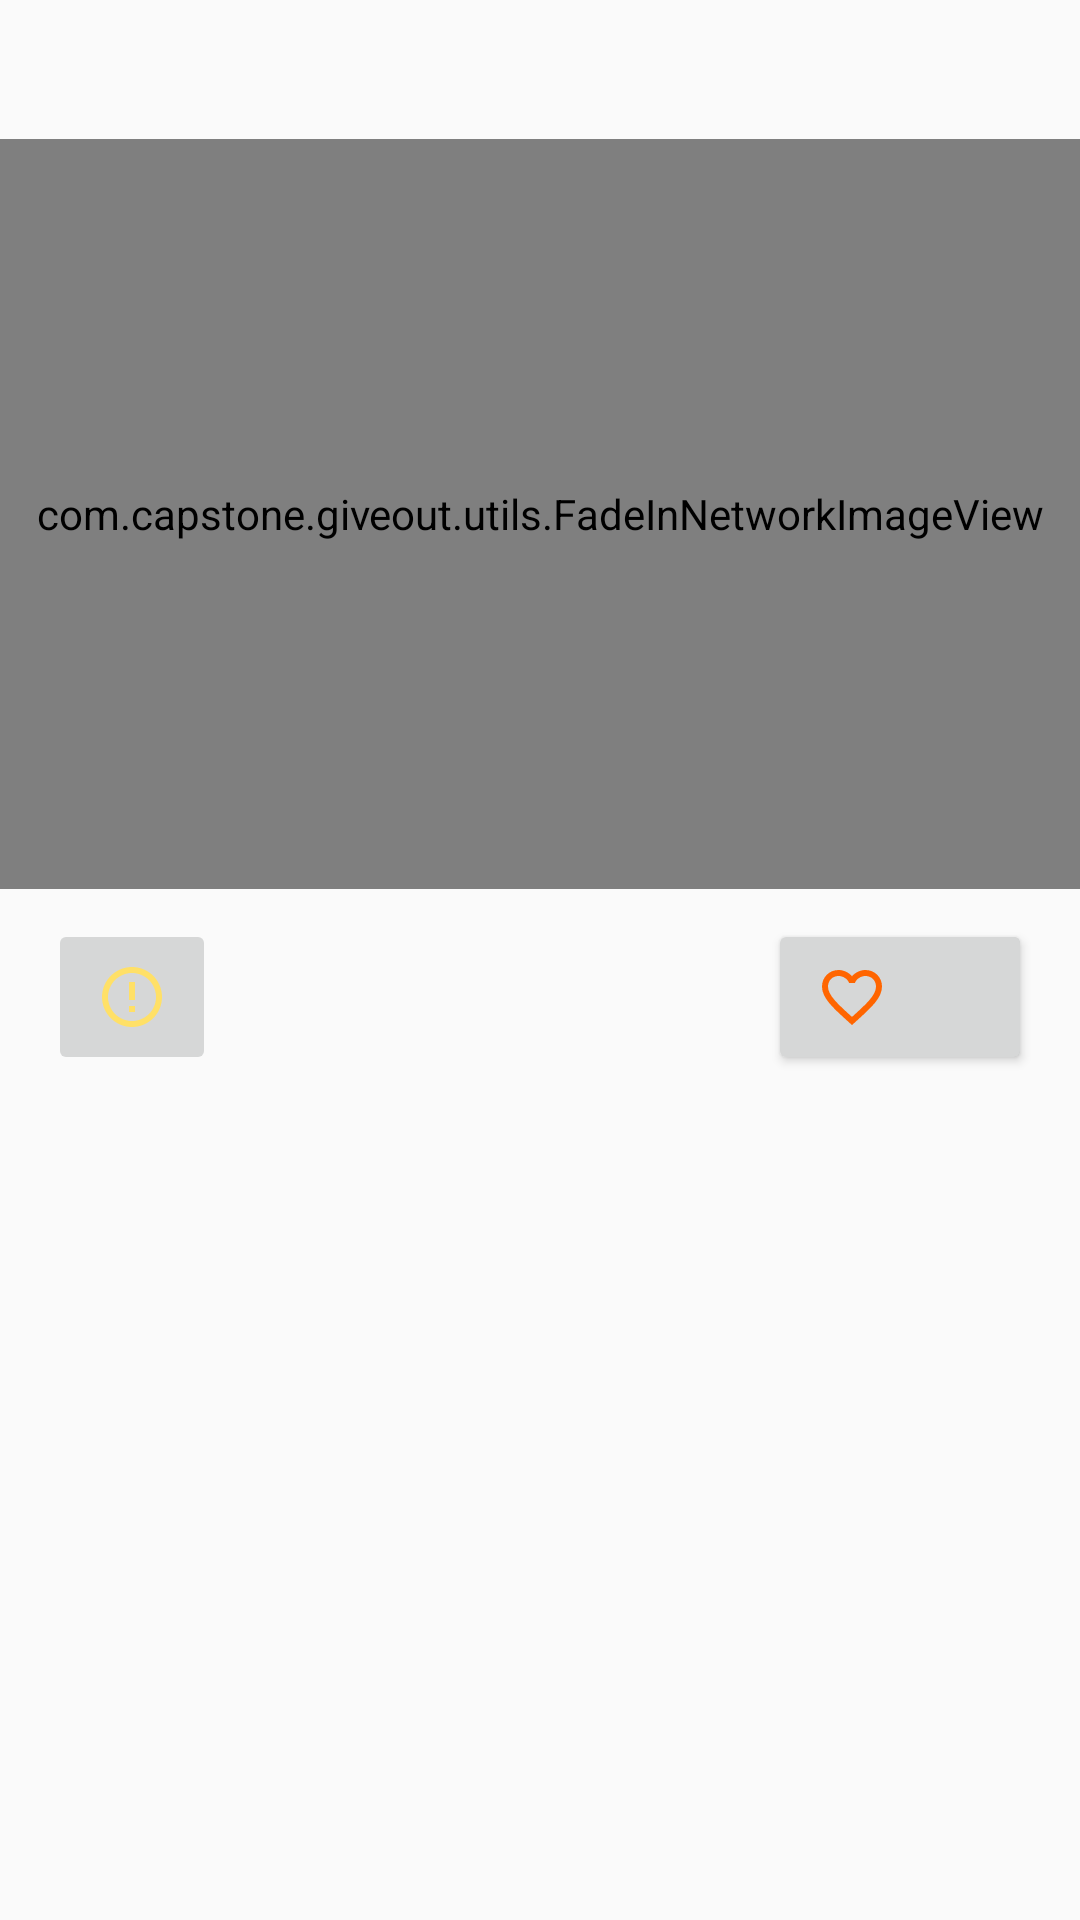

Where icons sit on this 1080w x 1920h app screen, as (x1, y1, x2, y2):
Flag as inappropriate: (60, 937, 204, 1057)
